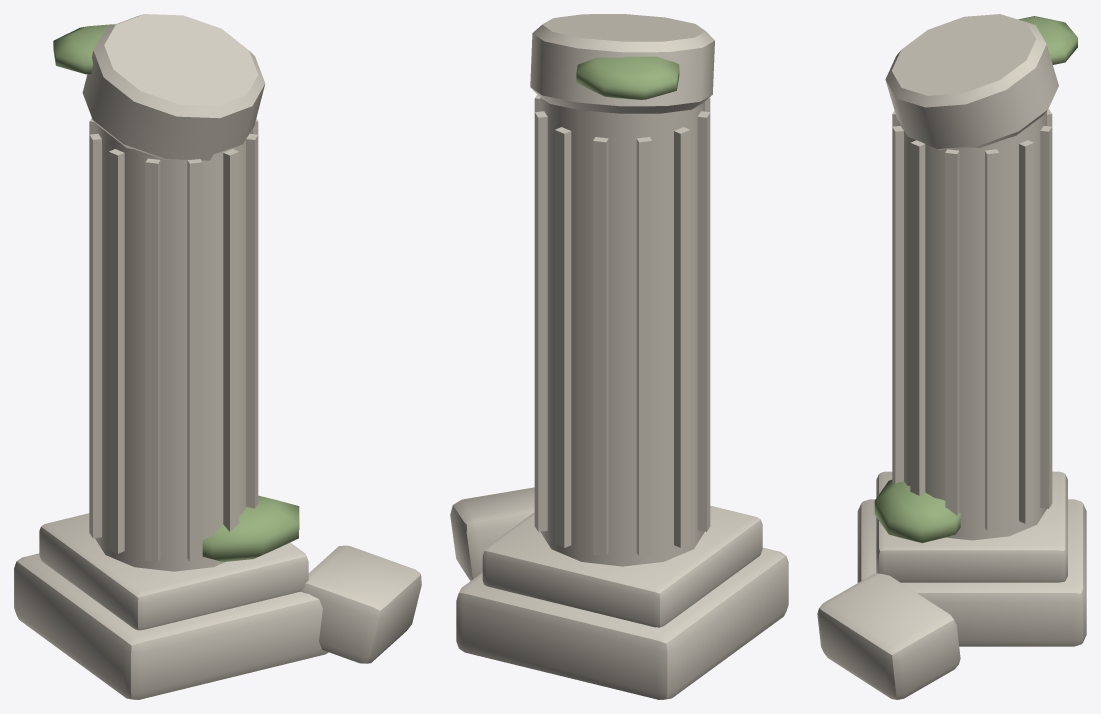
The model's file is ruin_pillar.glb.
The picture shows the model from 3 angles, left to right: view 1: azimuth 30°, elevation 25°; view 2: azimuth 150°, elevation 25°; view 3: azimuth 270°, elevation 25°; orthographic projection. The views are drawn at different scales.
Parts seen in each view (by area): view 1: ruin_pillar; view 2: ruin_pillar; view 3: ruin_pillar.
Part boxes in pixels (left/top/right/bottom): ruin_pillar: left=14, top=14, right=421, bottom=699; ruin_pillar: left=450, top=14, right=788, bottom=699; ruin_pillar: left=817, top=14, right=1086, bottom=699.
Bounding box in the file's own units: 0.815 × 1.53 × 0.6471.
